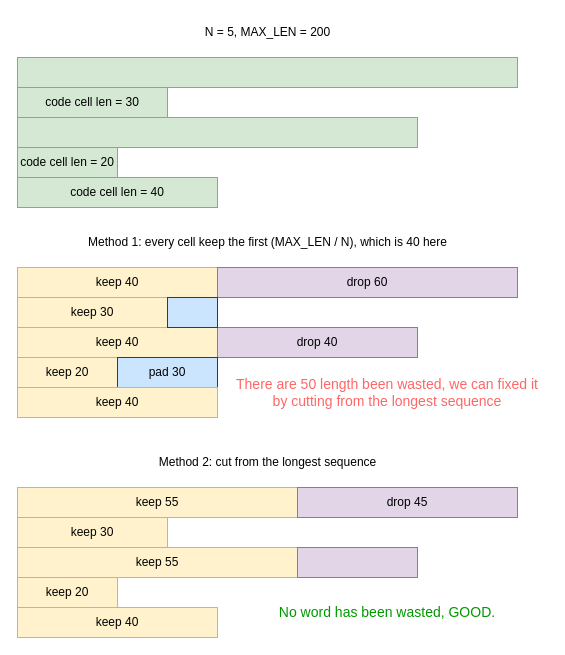
This 565x655 diagram has some shape labels left out. Each missing label, with the centre of its shape:
"code cell len = 100" goes at (x=267, y=72).
"code cell len = 80" goes at (x=217, y=132).
"drop 25" goes at (x=357, y=562).
"pad 20" goes at (x=192, y=312).
